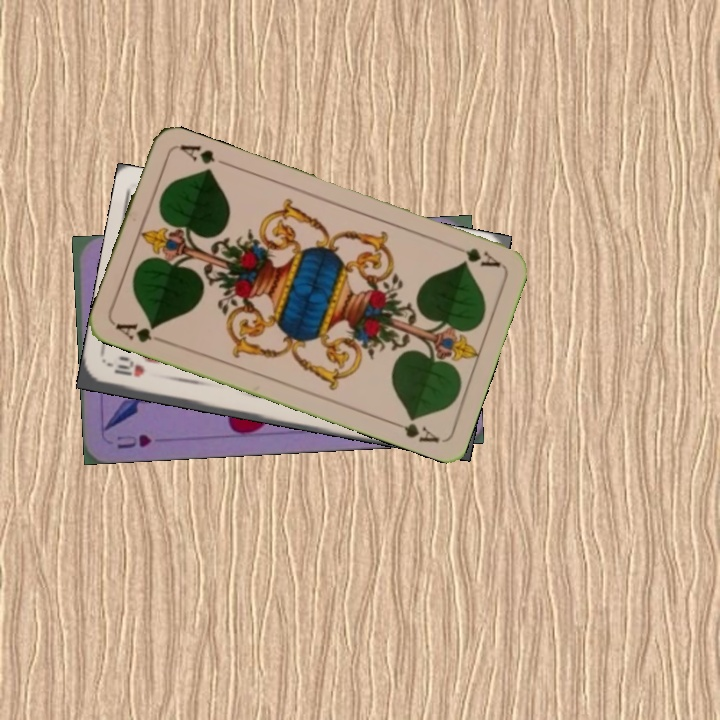GA: (111, 318, 169, 347), (447, 240, 503, 270)
H10: (105, 359, 147, 380)
HU: (113, 430, 154, 451)
